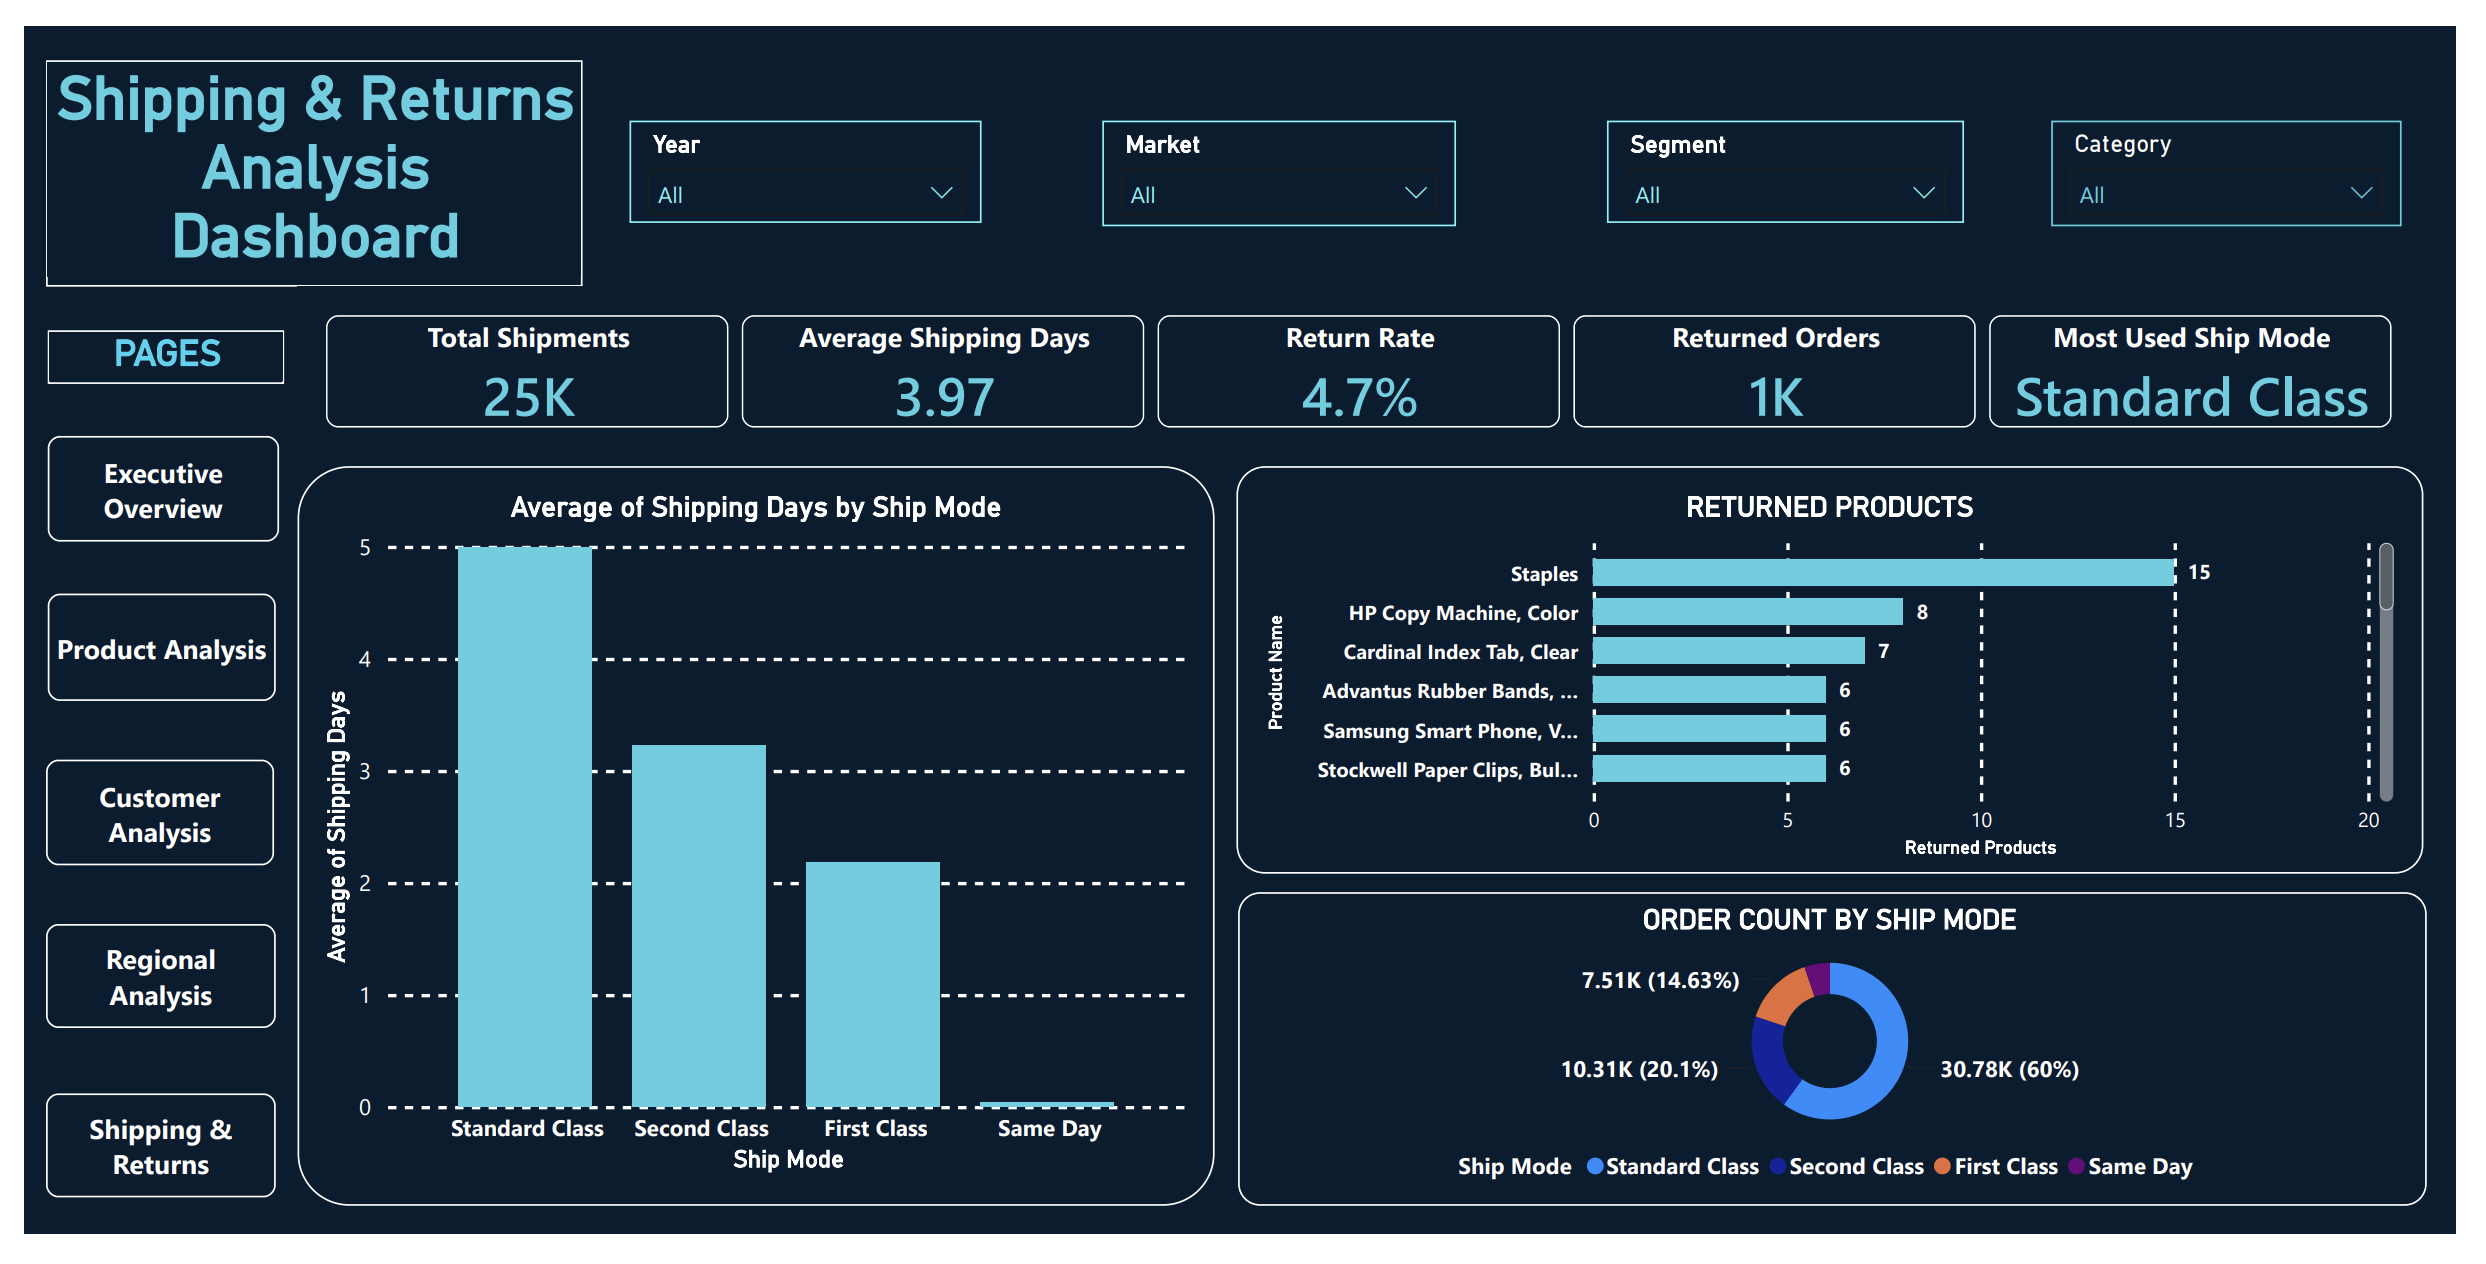

The dashboard page shown, as its layout file describes it:
{"tool":"powerbi","page":{"name":"Page 5","canvas":[1450,720],"ordinal":4},"visuals":[{"type":"shape","box":[724.3,516.1,708.4,186.5],"z":0},{"type":"donutChart","title":"ORDER COUNT BY SHIP MODE","fields":{"Category":["Orders.Ship Mode"],"Y":["CountNonNull(Orders.Order ID)"]},"box":[735.9,521.9,682.4,176.4],"z":1000},{"type":"shape","box":[163.4,261.7,546.5,441],"z":2000},{"type":"textbox","title":"Shipping & Returns Analysis Dashboard","box":[13,20.2,319.5,134.5],"z":3000},{"type":"clusteredColumnChart","fields":{"Category":["Orders.Ship Mode"],"Y":["Avg(Orders.Shipping Days)"]},"box":[173.5,276.1,526.3,412],"z":4000},{"type":"cardVisual","fields":{"Data":["Orders.Total Shipments","Orders.Average Shipping Days","Orders.Return Rate","Orders.Returned Orders","Orders.Most Used Ship Mode"]},"box":[163.4,154.7,1268,101.2],"z":5000},{"type":"slicer","fields":{"Values":["Orders.Category"]},"box":[1208.7,56.4,209.6,62.2],"z":6000},{"type":"slicer","fields":{"Values":["Orders.Order Date.Variation.Date Hierarchy.Year"]},"box":[361.4,56.4,209.6,60.7],"z":7000},{"type":"slicer","fields":{"Values":["Orders.Market"]},"box":[643.4,56.4,211.1,62.2],"z":8000},{"type":"slicer","fields":{"Values":["Orders.Segment"]},"box":[944.1,56.4,212.5,60.7],"z":9000},{"type":"shape","box":[722.9,261.7,708.4,242.9],"z":10000},{"type":"clusteredBarChart","title":"RETURNED PRODUCTS","fields":{"Category":["Orders.Product Name"],"Y":["Orders.Returned Products"]},"box":[735.9,276.1,682.4,224.1],"z":11000},{"type":"textbox","title":"PAGES","box":[14.5,180.7,140.2,31.8],"z":12000},{"type":"actionButton","box":[14.5,244.3,137.3,62.2],"z":13000},{"type":"actionButton","box":[14.5,338.3,135.9,63.6],"z":14000},{"type":"actionButton","box":[13,436.6,135.9,63.6],"z":15000},{"type":"actionButton","box":[13,534.9,137.3,62.2],"z":16000},{"type":"actionButton","box":[13,636.1,137.3,62.2],"z":17000}]}

Visuals, with their boxes in screenshot pixels (x1, y1, x2, y2), scaled from the page's 1450x720 canvas onto the 2486x1264 screenshot:
shape: detection(1242, 906, 2456, 1233)
"ORDER COUNT BY SHIP MODE" donutChart: detection(1262, 916, 2432, 1226)
shape: detection(280, 459, 1217, 1234)
"Shipping & Returns Analysis Dashboard" textbox: detection(22, 35, 570, 272)
clusteredColumnChart - Orders.Ship Mode x Avg(Orders.Shipping Days): detection(297, 485, 1200, 1208)
cardVisual - Orders.Total Shipments x Orders.Average Shipping Days: detection(280, 272, 2454, 449)
slicer - Orders.Category: detection(2072, 99, 2432, 208)
slicer - Orders.Order Date.Variation.Date Hierarchy.Year: detection(620, 99, 979, 206)
slicer - Orders.Market: detection(1103, 99, 1465, 208)
slicer - Orders.Segment: detection(1619, 99, 1983, 206)
shape: detection(1239, 459, 2454, 886)
"RETURNED PRODUCTS" clusteredBarChart: detection(1262, 485, 2432, 878)
"PAGES" textbox: detection(25, 317, 265, 373)
actionButton: detection(25, 429, 260, 538)
actionButton: detection(25, 594, 258, 706)
actionButton: detection(22, 766, 255, 878)
actionButton: detection(22, 939, 258, 1048)
actionButton: detection(22, 1117, 258, 1226)
